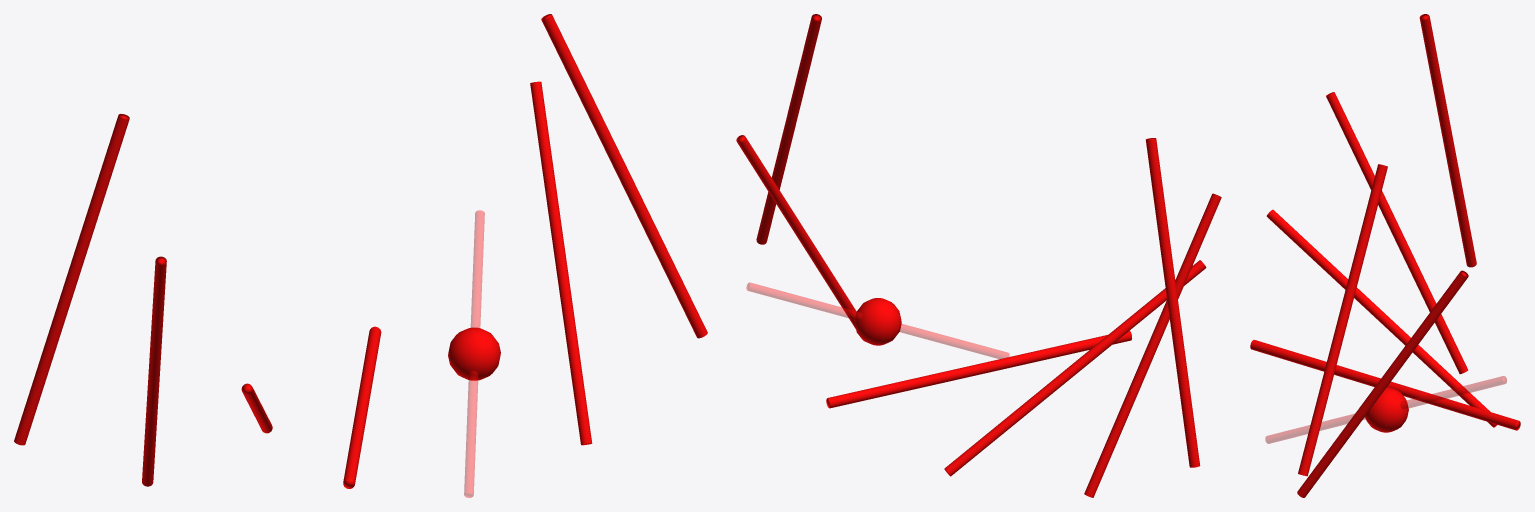
The model's file is candidate.gltf.
3 renders of one model, left to right at view 1: azimuth 30°, elevation 25°; view 2: azimuth 150°, elevation 25°; view 3: azimuth 270°, elevation 25°, orthographic. The views are drawn at different scales.
Bounding box in the file's own units: 25.13 × 16.93 × 11.63.
